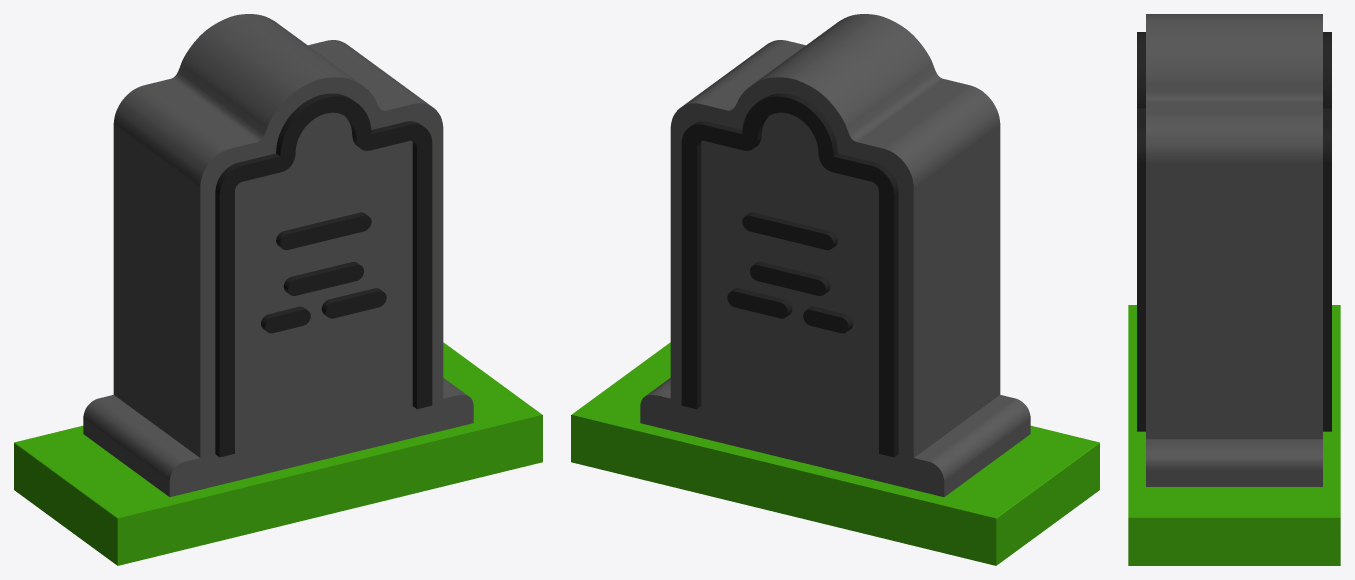
File: U+1FAA6.obj
The picture shows the model from 3 angles, left to right: view 1: azimuth 30°, elevation 25°; view 2: azimuth 150°, elevation 25°; view 3: azimuth 270°, elevation 25°; orthographic projection. The views are drawn at different scales.
Visible parts, largest first — view 1: U+1FAA6_layer00_obj00, U+1FAA6_layer02_obj00, U+1FAA6_layer01_obj00; view 2: U+1FAA6_layer00_obj00, U+1FAA6_layer02_obj00, U+1FAA6_layer01_obj00; view 3: U+1FAA6_layer00_obj00, U+1FAA6_layer02_obj00, U+1FAA6_layer01_obj00.
Part boxes in pixels (<box>): U+1FAA6_layer00_obj00: <box>83,14,473,496</box>; U+1FAA6_layer02_obj00: <box>14,342,542,565</box>; U+1FAA6_layer01_obj00: <box>215,93,432,457</box>; U+1FAA6_layer00_obj00: <box>640,14,1030,496</box>; U+1FAA6_layer02_obj00: <box>571,342,1099,565</box>; U+1FAA6_layer01_obj00: <box>681,93,898,457</box>; U+1FAA6_layer00_obj00: <box>1146,14,1322,486</box>; U+1FAA6_layer02_obj00: <box>1128,305,1340,565</box>; U+1FAA6_layer01_obj00: <box>1137,32,1331,431</box>.
Size of the model in its own units: 0.5678 by 0.5474 by 0.24.
